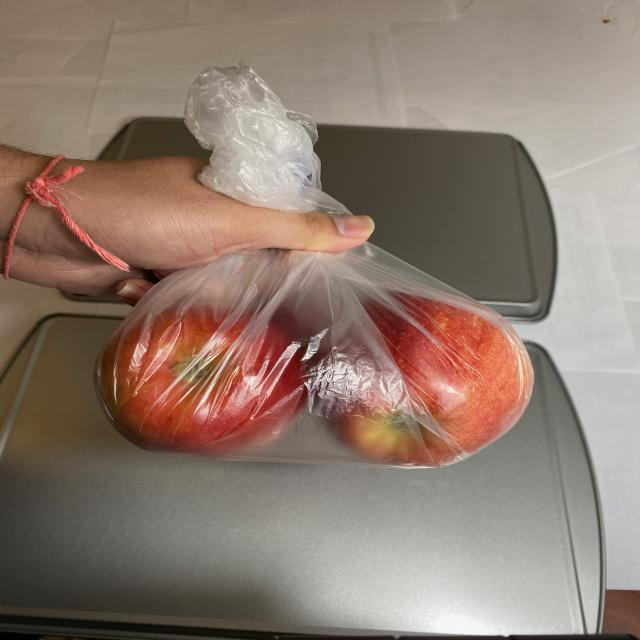apple: (87, 292, 545, 472)
